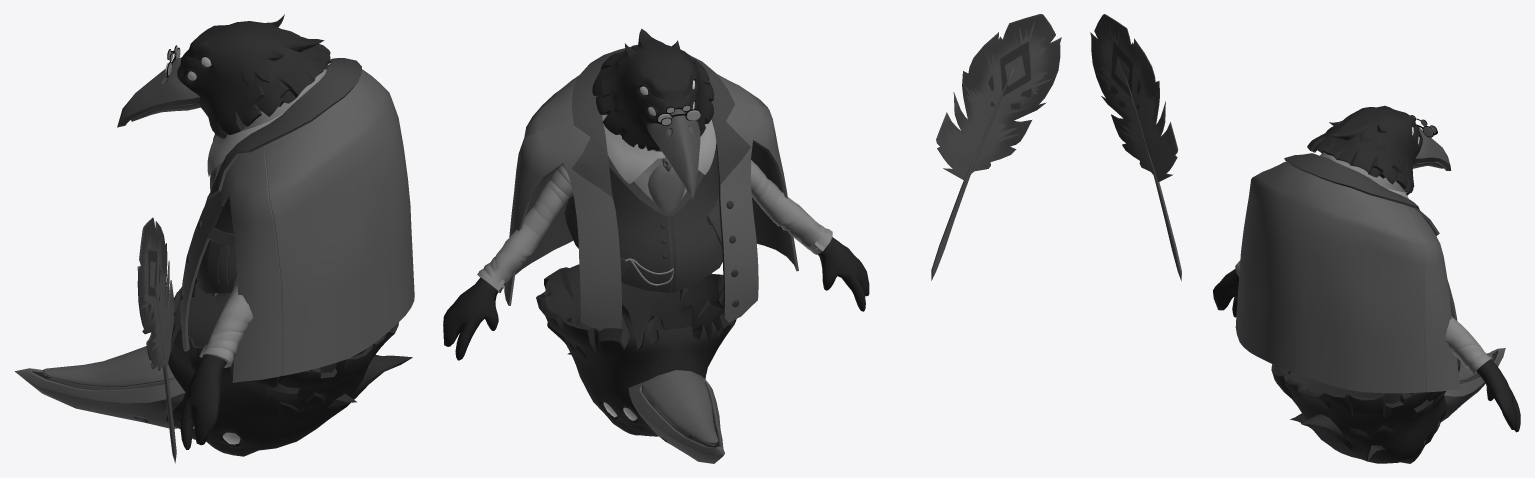
File: Banker.fbx
3 views of the same model, side by side, from view 1: azimuth 30°, elevation 25°; view 2: azimuth 150°, elevation 25°; view 3: azimuth 270°, elevation 25° (orthographic). The views are drawn at different scales.
Visible parts, largest first — view 1: jacket, crowHead (1), crowHead, feather, body, handLeft, pocket1, flaps, feather1; view 2: jacket, crowHead (1), body, feather, crowHead, handRight, flaps, handLeft, tie, feather1; view 3: jacket, crowHead (1), feather, crowHead, body, handRight, handLeft, feather1.
Boxes of the visible parts, <box> form: jacket: <box>180,58,414,382</box>; crowHead (1): <box>15,278,412,456</box>; crowHead: <box>117,14,330,138</box>; feather: <box>137,217,174,370</box>; body: <box>196,69,326,367</box>; handLeft: <box>180,354,226,449</box>; pocket1: <box>207,228,236,285</box>; flaps: <box>207,69,326,176</box>; feather1: <box>153,276,176,463</box>; jacket: <box>504,46,798,336</box>; crowHead (1): <box>536,264,736,463</box>; body: <box>477,143,832,293</box>; feather: <box>936,14,1061,179</box>; crowHead: <box>592,28,714,198</box>; handRight: <box>443,277,498,360</box>; flaps: <box>602,114,716,183</box>; handLeft: <box>818,237,869,311</box>; tie: <box>647,163,685,213</box>; feather1: <box>931,67,1014,280</box>; jacket: <box>1235,153,1460,393</box>; crowHead (1): <box>1271,348,1505,463</box>; feather: <box>1090,14,1178,182</box>; crowHead: <box>1307,105,1451,195</box>; body: <box>1235,152,1491,374</box>; handRight: <box>1476,359,1520,432</box>; handLeft: <box>1213,269,1238,317</box>; feather1: <box>1125,75,1181,281</box>.
Size of the model in its own units: 6.8 by 6.12 by 6.88.
1 material, 1 textured.
